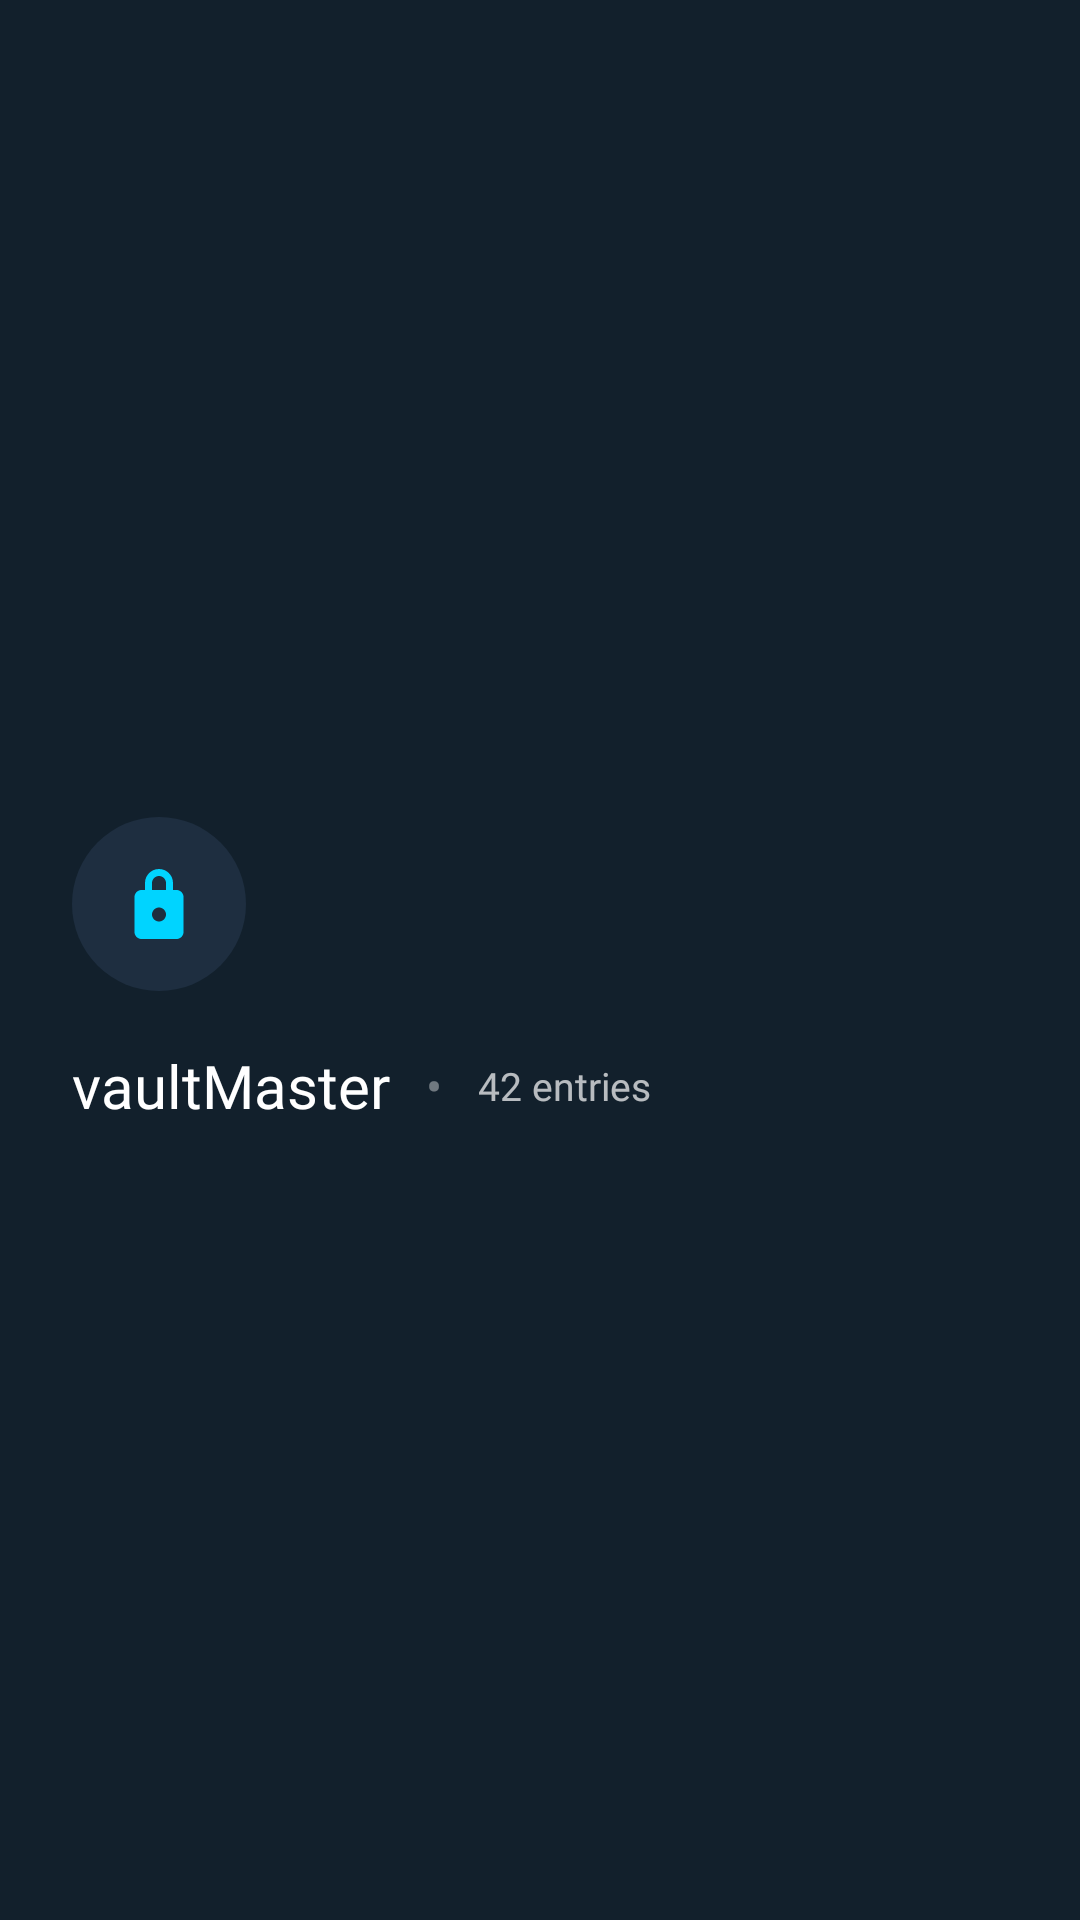

Screen size 1080px x 1920px. Icon name, then its box in pixels as (x1,y1,x2,y2):
Vault icon: (134,869,184,939)
